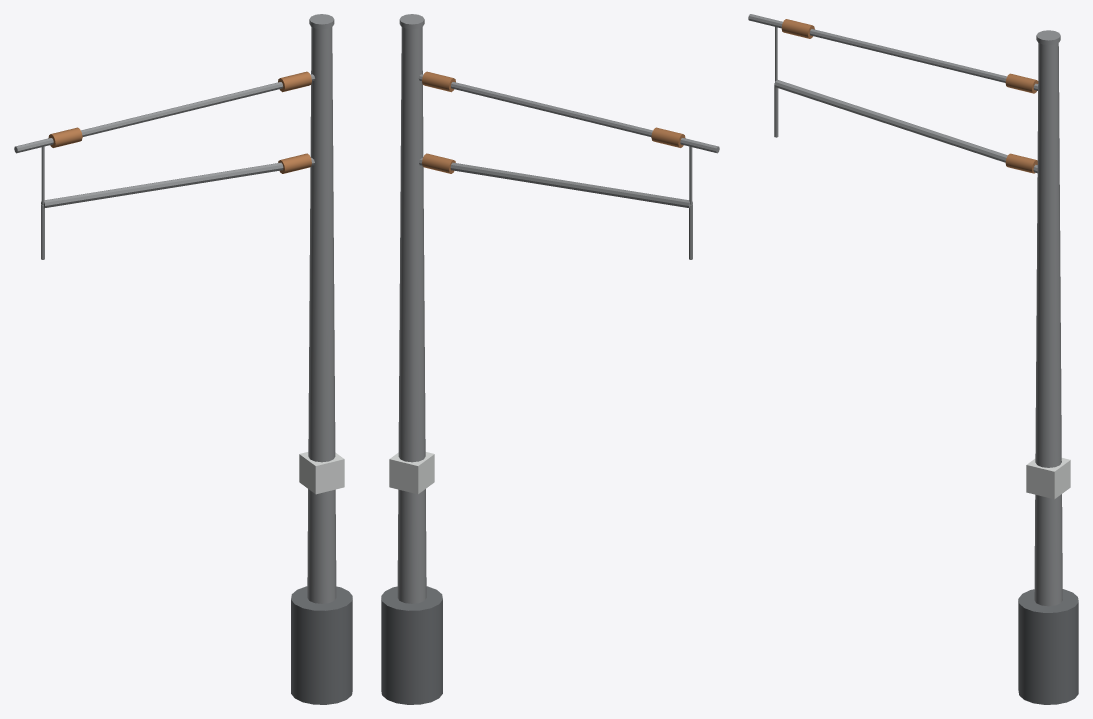
The model's file is RS_Catenary_Mast.fbx.
3 views of the same model, side by side, from view 1: azimuth 30°, elevation 25°; view 2: azimuth 150°, elevation 25°; view 3: azimuth 330°, elevation 25° (orthographic). The views are drawn at different scales.
Visible parts, largest first — view 1: Catenary_Mast_Steel, Catenary_Mast_Paint_Grey, Catenary_Mast_Paint_White, Catenary_Mast_Ceramic; view 2: Catenary_Mast_Steel, Catenary_Mast_Paint_Grey, Catenary_Mast_Paint_White, Catenary_Mast_Ceramic; view 3: Catenary_Mast_Steel, Catenary_Mast_Paint_Grey, Catenary_Mast_Paint_White, Catenary_Mast_Ceramic.
Boxes of the visible parts, x1,y1,x2,y2 form: Catenary_Mast_Steel: (14,14,336,603); Catenary_Mast_Paint_Grey: (291,586,352,704); Catenary_Mast_Paint_White: (299,452,344,494); Catenary_Mast_Ceramic: (48,71,311,173); Catenary_Mast_Steel: (397,14,719,603); Catenary_Mast_Paint_Grey: (381,586,442,704); Catenary_Mast_Paint_White: (389,452,434,494); Catenary_Mast_Ceramic: (422,71,685,173); Catenary_Mast_Steel: (748,14,1062,606); Catenary_Mast_Paint_Grey: (1018,589,1078,704); Catenary_Mast_Paint_White: (1026,458,1070,499); Catenary_Mast_Ceramic: (781,19,1038,173).
Bounding box in the file's own units: 3.7 × 7.15 × 0.6.
